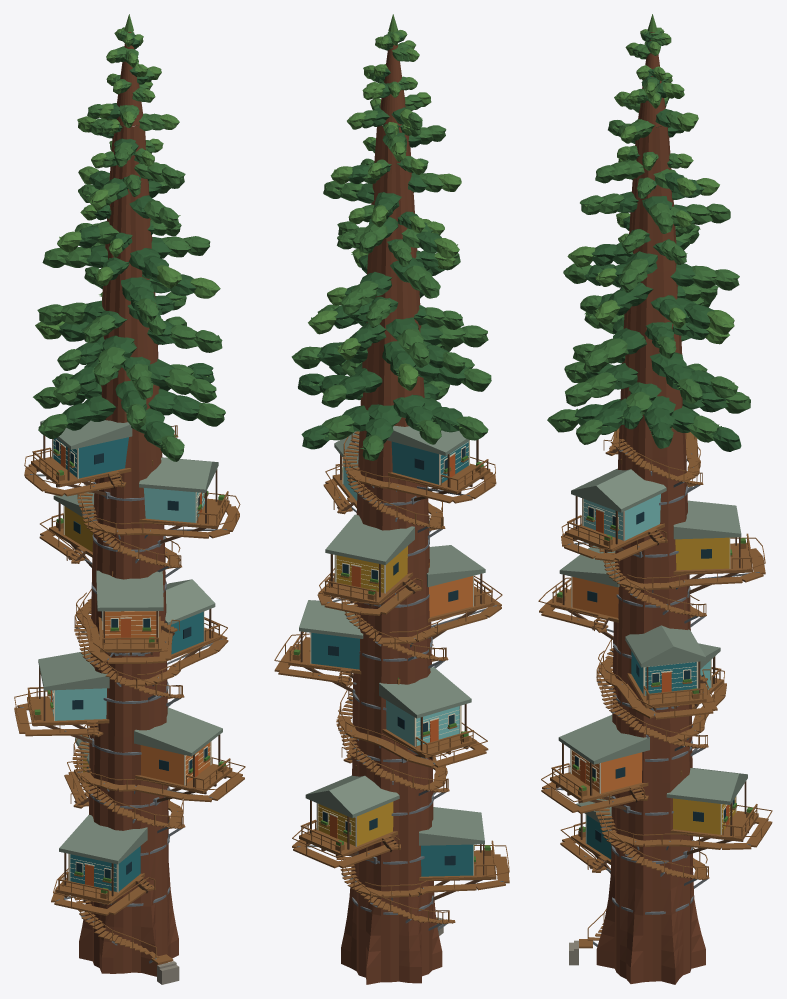
The model's file is village_tree.glb.
The picture shows the model from 3 angles, left to right: view 1: azimuth 30°, elevation 25°; view 2: azimuth 150°, elevation 25°; view 3: azimuth 270°, elevation 25°; orthographic projection.
Visible parts, largest first — view 1: village_tree; view 2: village_tree; view 3: village_tree.
Part boxes in pixels (x1,y1,x2,y2): village_tree: (14, 14, 245, 984); village_tree: (274, 14, 509, 984); village_tree: (538, 14, 772, 984).
Size of the model in its own units: 21.07 by 94.2 by 21.01.
